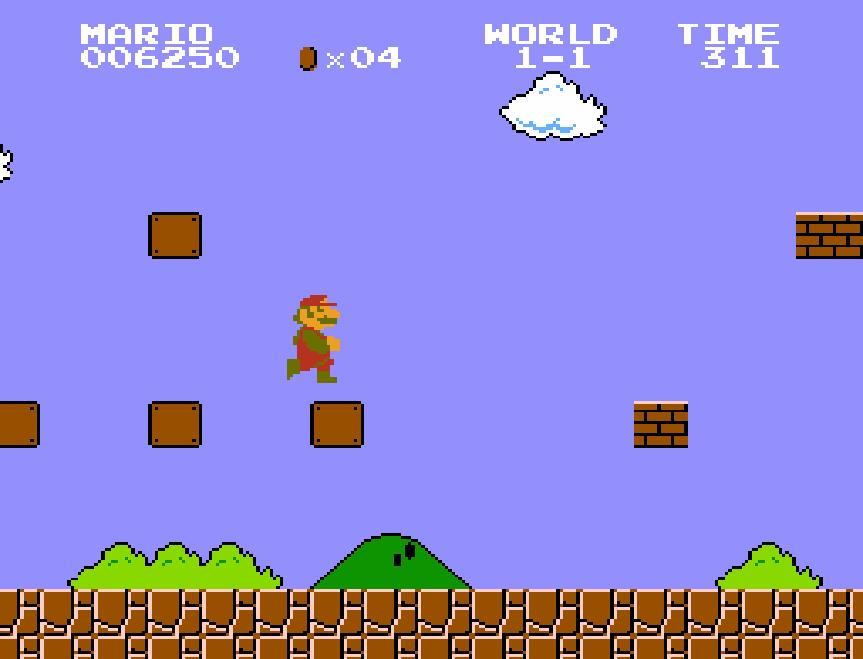big_mario: (284, 286, 342, 384)
